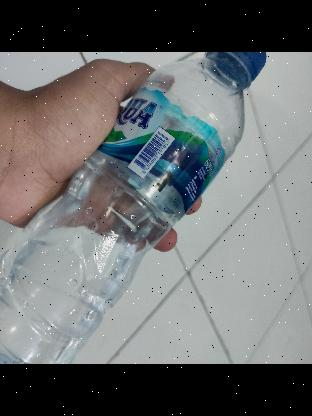Plastic Bottle: (0, 52, 282, 364)
